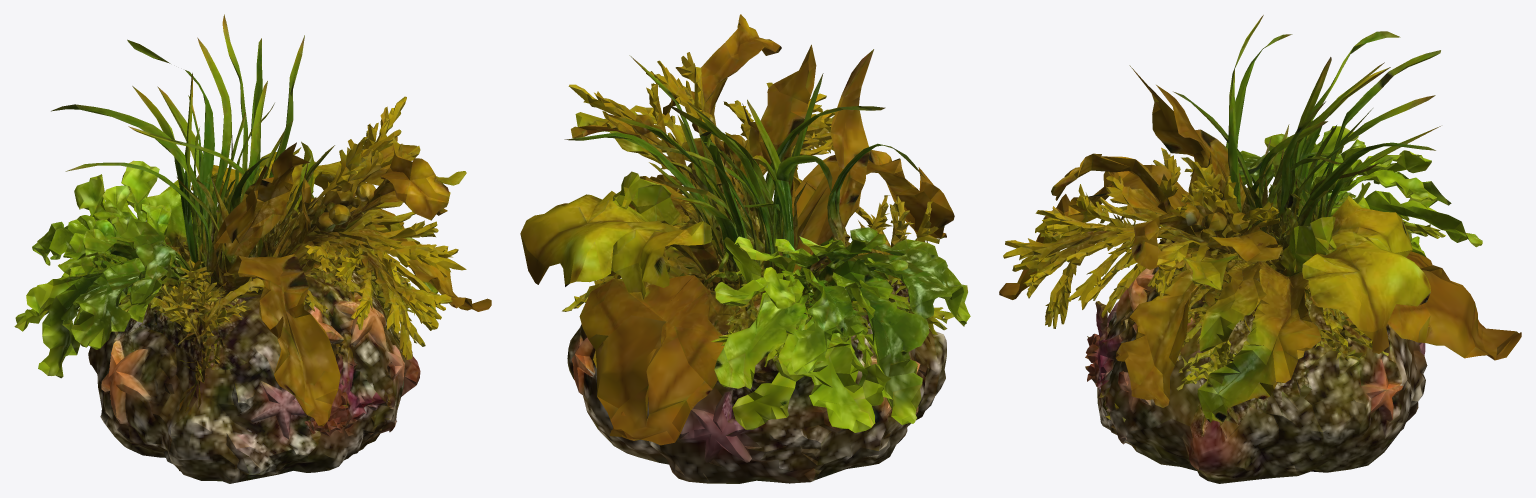
Rendered from SM_SeaGrass_Rock.glb.
3 renders of one model, left to right at view 1: azimuth 30°, elevation 25°; view 2: azimuth 150°, elevation 25°; view 3: azimuth 270°, elevation 25°, orthographic. The views are drawn at different scales.
Parts seen in each view (by area): view 1: Mesh_0; view 2: Mesh_0; view 3: Mesh_0.
Boxes of the visible parts, x1,y1,x2,y2 form: Mesh_0: (14,14,491,483); Mesh_0: (520,14,970,483); Mesh_0: (999,15,1521,483).
Bounding box in the file's own units: 1.68 × 1.48 × 1.9.
1 material, 1 textured.
